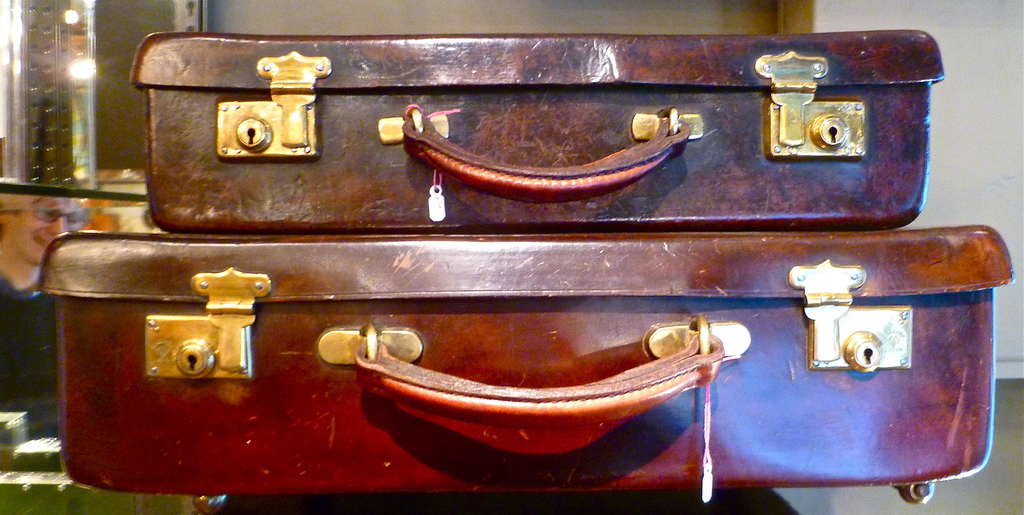face: (4, 191, 85, 261)
